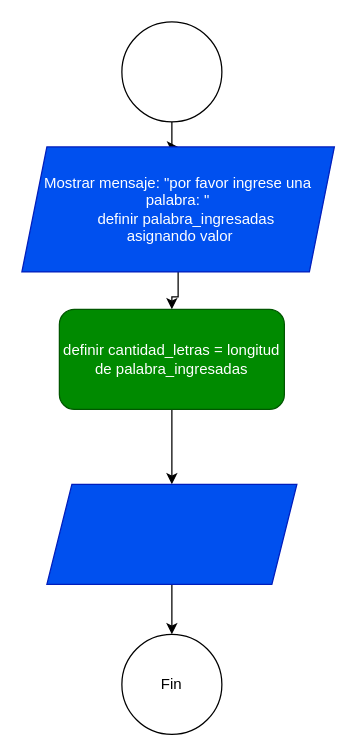
Image size: 356x756. Some labels were removed from this diagram. Each missing label, with the centre of its shape:
Inicio: [171,71]
Mostrar mensaje: "La palabra ingresada tiene {cantidad_letras} letras.": [171,533]
